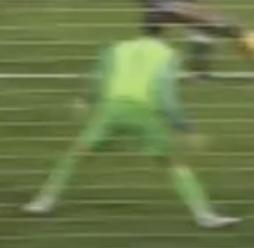goalkeeper: (13, 7, 246, 233)
